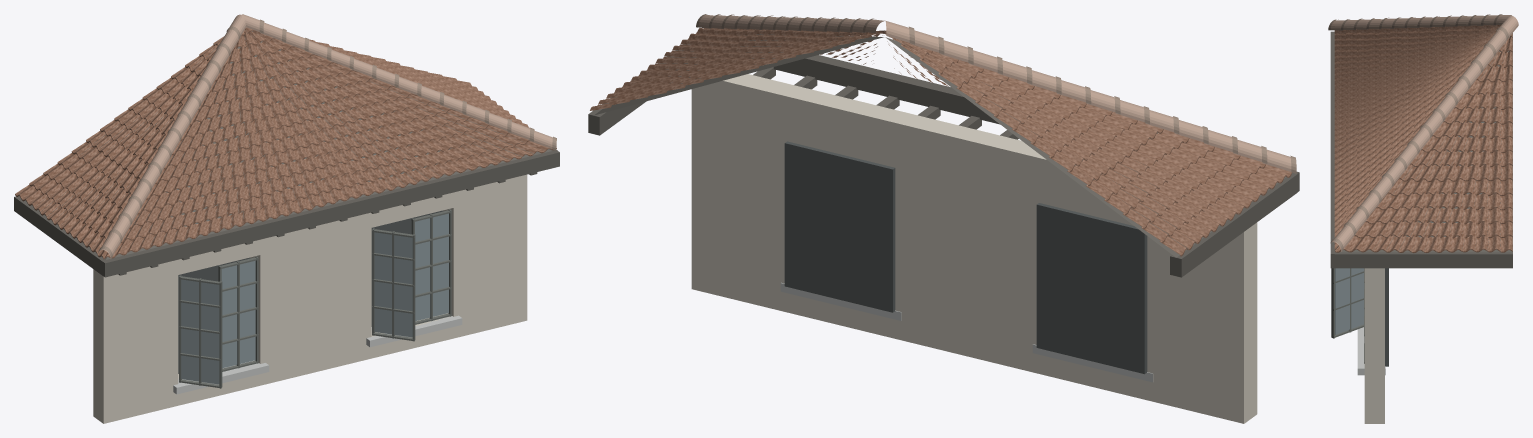
The model's file is changle-327-329-hipped-window-roof-near.glb.
3 renders of one model, left to right at view 1: azimuth 30°, elevation 25°; view 2: azimuth 150°, elevation 25°; view 3: azimuth 270°, elevation 25°, orthographic. The views are drawn at different scales.
Visible parts, largest first — view 1: 长乐路327至329号住宅双窗上方的斜脊瓦顶; view 2: 长乐路327至329号住宅双窗上方的斜脊瓦顶; view 3: 长乐路327至329号住宅双窗上方的斜脊瓦顶.
Boxes of the visible parts, left/top/right/bottom form: 长乐路327至329号住宅双窗上方的斜脊瓦顶: left=14, top=14, right=559, bottom=423; 长乐路327至329号住宅双窗上方的斜脊瓦顶: left=588, top=14, right=1299, bottom=423; 长乐路327至329号住宅双窗上方的斜脊瓦顶: left=1328, top=14, right=1518, bottom=423.
Bounding box in the file's own units: 4.56 × 2.87 × 1.63.
9 materials, 1 textured.
